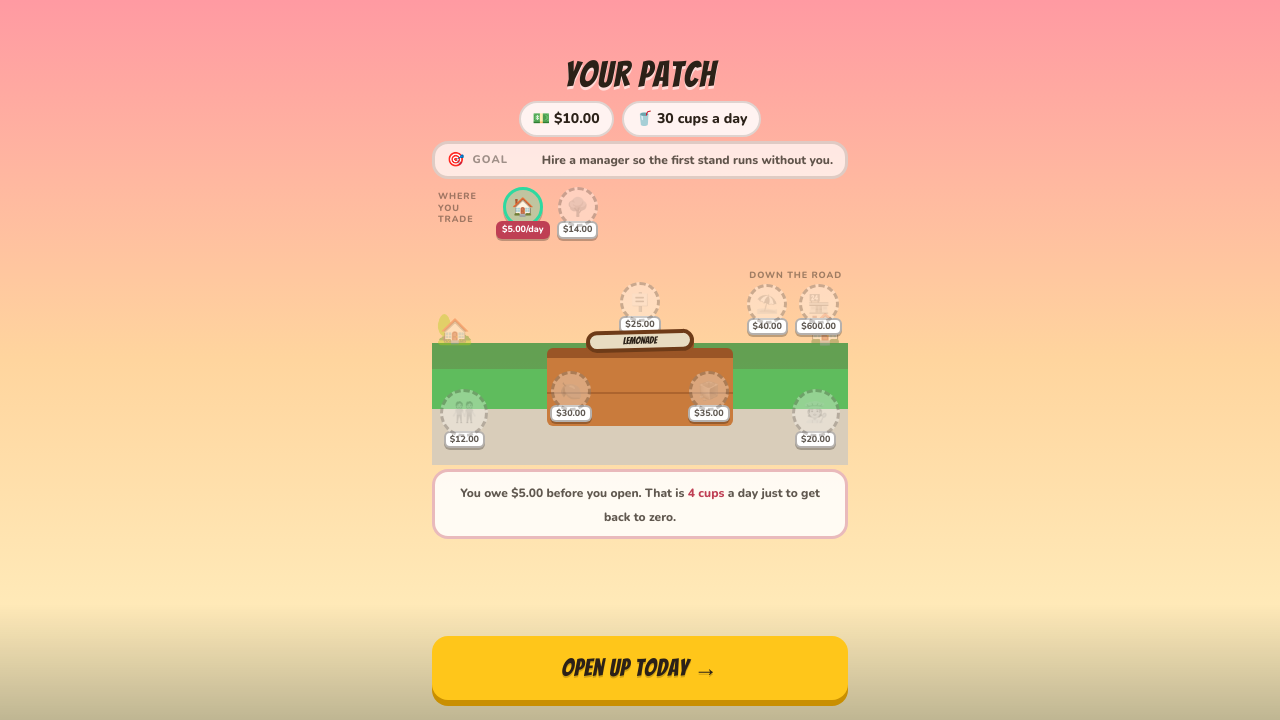
Test: buying something in Act 2 › says what is missing rather than just refusing
The image size is (1280, 720).
Click the button named "Ice cooler": (709, 396) x1=687 y1=371 x2=731 y2=422
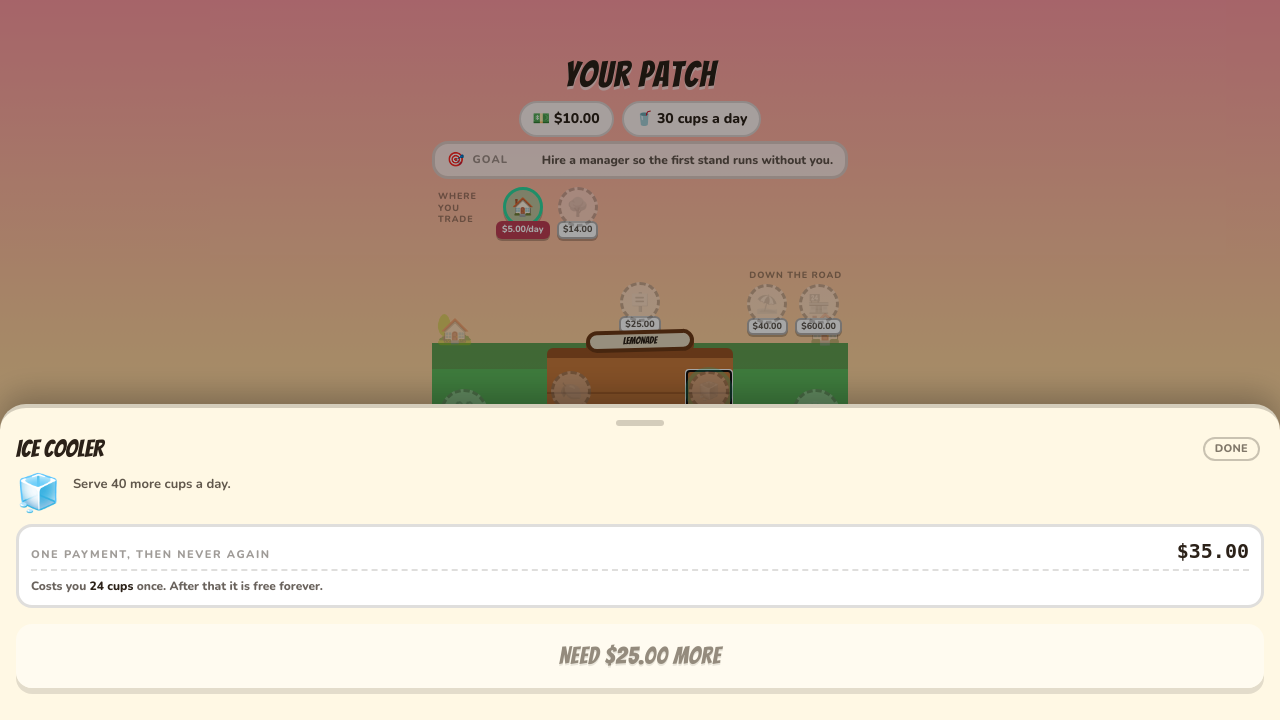
Check: the button "Need $25.00 more" is disabled, box x1=16 y1=624 x2=1264 y2=688
